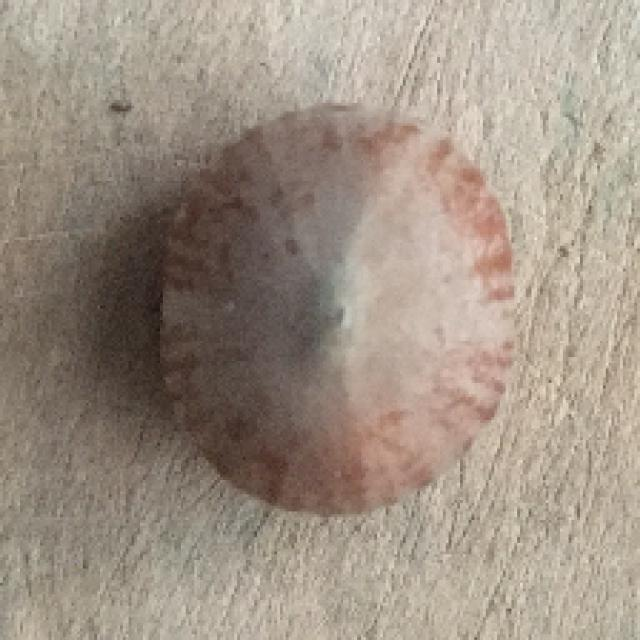qualityHazelnut: (164, 104, 523, 512)
